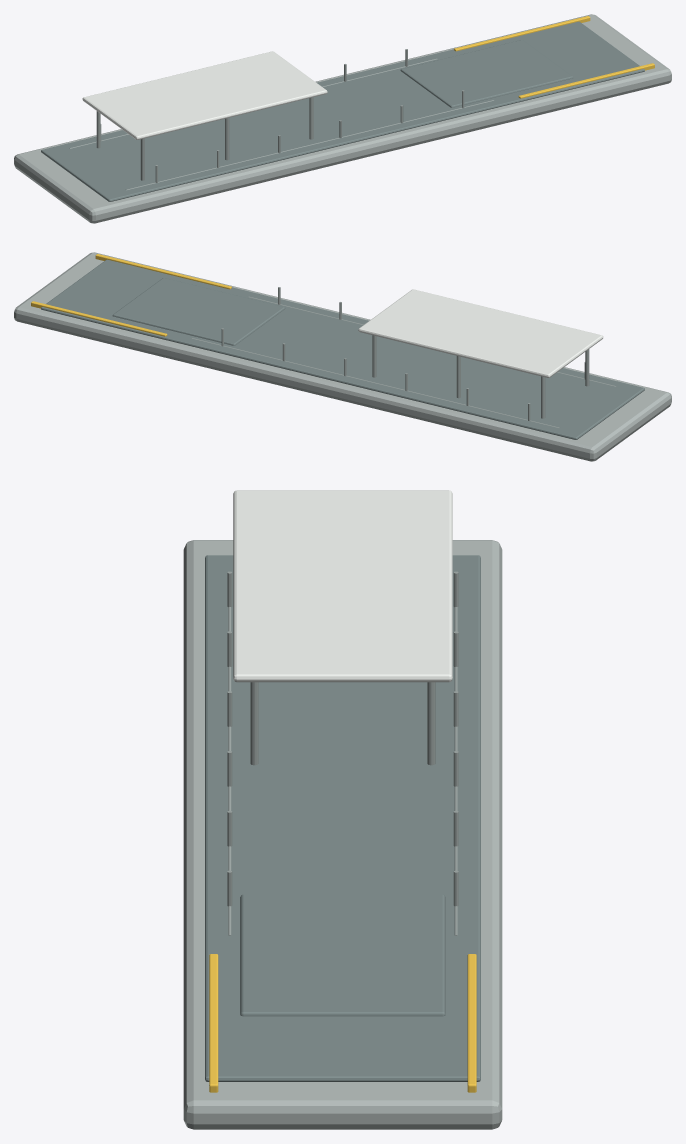
Rendered from ferry-qigan-pier-lod1.glb.
3 views of the same model, one above another, from view 1: azimuth 30°, elevation 25°; view 2: azimuth 150°, elevation 25°; view 3: azimuth 270°, elevation 25° (orthographic). The views are drawn at different scales.
Parts seen in each view (by area): view 1: Pier deck, Pier concrete platform, Simple waiting canopy, Boarding ramp, Ramp side fender right, Ramp side fender left, Pier edge rail; view 2: Pier deck, Pier concrete platform, Simple waiting canopy, Boarding ramp, Ramp side fender left, Ramp side fender right, Pier edge rail.001; view 3: Pier deck, Simple waiting canopy, Pier concrete platform, Boarding ramp, Ramp side fender left, Ramp side fender right.
Boxes of the visible parts, x1=… form: Pier deck: x1=41, y1=21, x2=644, y2=201; Pier concrete platform: x1=14, y1=14, x2=671, y2=223; Simple waiting canopy: x1=82, y1=51, x2=327, y2=139; Boarding ramp: x1=400, y1=40, x2=573, y2=107; Ramp side fender right: x1=454, y1=16, x2=590, y2=51; Ramp side fender left: x1=518, y1=63, x2=654, y2=98; Pier edge rail: x1=126, y1=100, x2=493, y2=190; Pier deck: x1=41, y1=259, x2=644, y2=439; Pier concrete platform: x1=14, y1=252, x2=671, y2=461; Simple waiting canopy: x1=358, y1=289, x2=603, y2=377; Boarding ramp: x1=112, y1=278, x2=285, y2=345; Ramp side fender left: x1=95, y1=254, x2=231, y2=289; Ramp side fender right: x1=31, y1=301, x2=167, y2=336; Pier edge rail.001: x1=192, y1=338, x2=559, y2=428; Pier deck: x1=205, y1=555, x2=480, y2=1081; Simple waiting canopy: x1=233, y1=490, x2=452, y2=682; Pier concrete platform: x1=183, y1=540, x2=502, y2=1129; Boarding ramp: x1=240, y1=894, x2=445, y2=1016; Ramp side fender left: x1=209, y1=954, x2=218, y2=1092; Ramp side fender right: x1=467, y1=954, x2=476, y2=1092.
Bounding box in the file's own units: 38 × 4.12 × 9.
